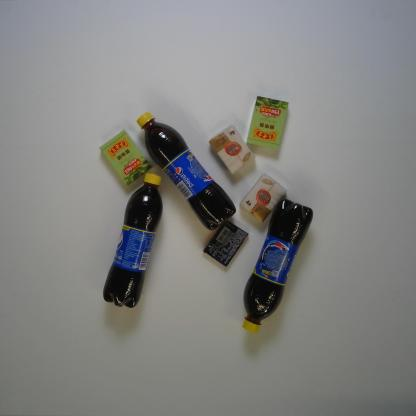Candy: (98, 128, 152, 188), (246, 95, 289, 151)
Drink: (135, 110, 237, 231), (241, 198, 314, 335), (102, 172, 163, 310)
Gum: (203, 219, 249, 267)
Tissue: (238, 172, 288, 224), (209, 124, 256, 176)
